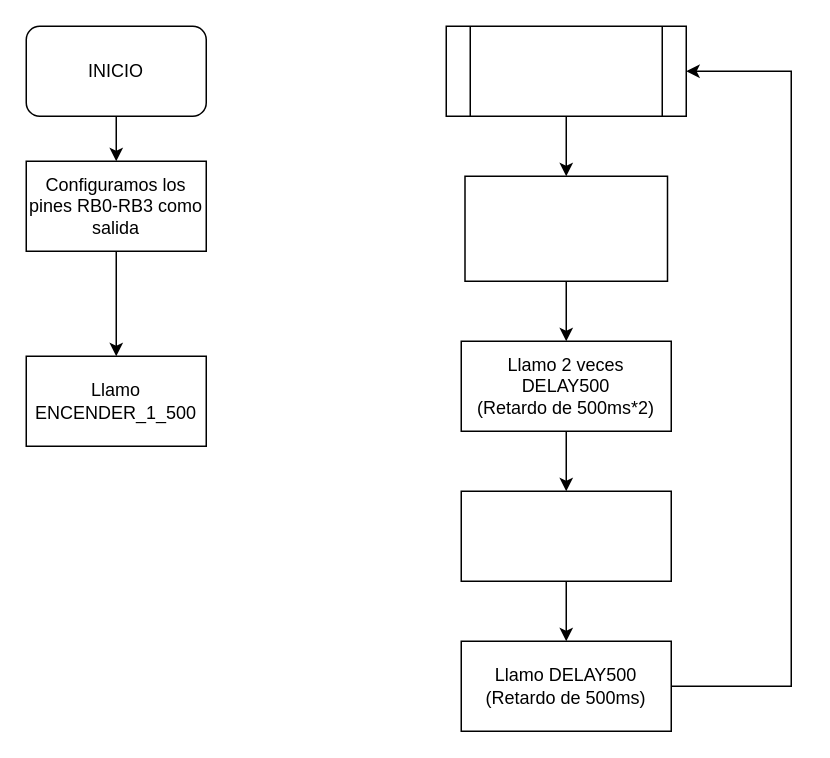
Some shapes in this 830 by 758 pixel diagram are drawn without their labels. The shapes that lost their labels are listed below. From the top down, each one's centre as x and y in pixels, then its label:
[565,70]: ENCENDER_1_500
[566,228]: Llamo ENCENDER_TODOS (todos los pines en alto)
[565,535]: Set 0 todo PORTB (todos los pines en bajo)
